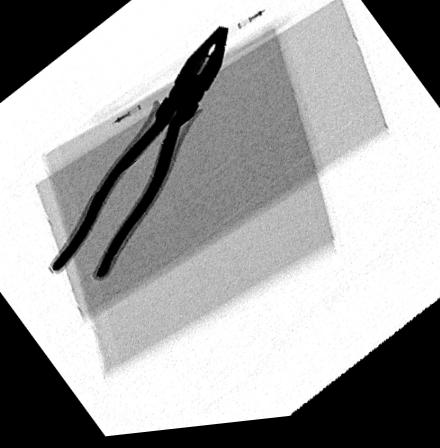Pliers: (51, 30, 229, 283)
